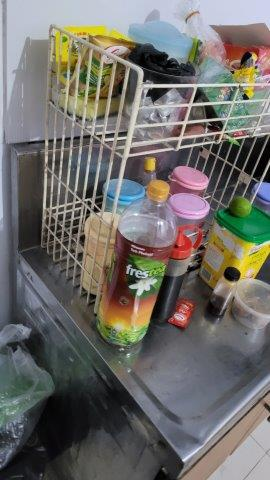botolplastik: (96, 179, 178, 348)
